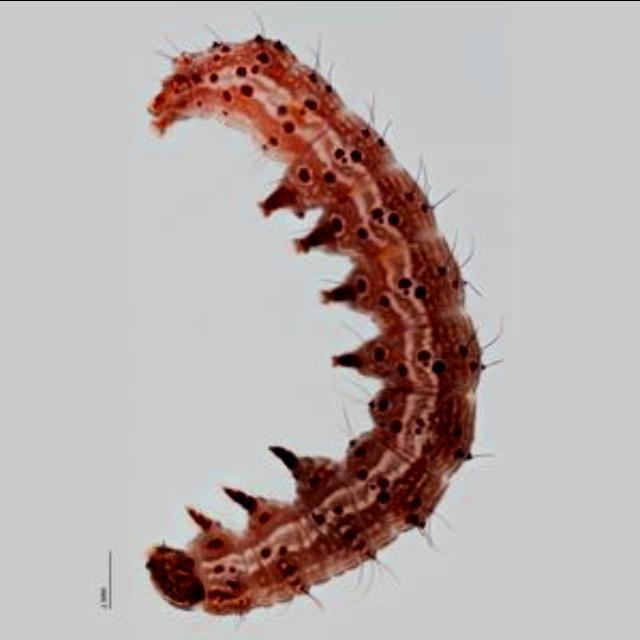Cotton bollworm: (106, 21, 554, 620)
